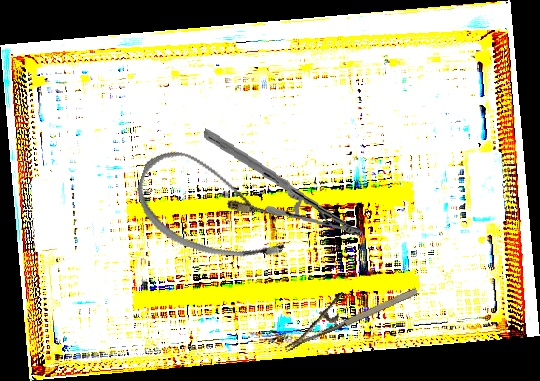Cannula: (125, 141, 302, 276)
Needle Holder: (197, 128, 369, 239), (273, 265, 420, 353)
